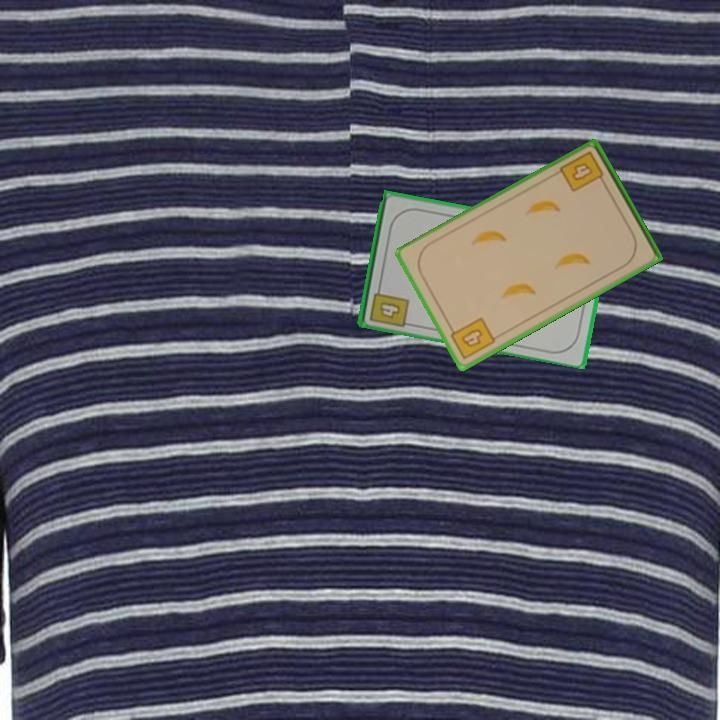4b: (445, 314, 498, 362), (556, 148, 609, 195), (366, 280, 412, 330)
